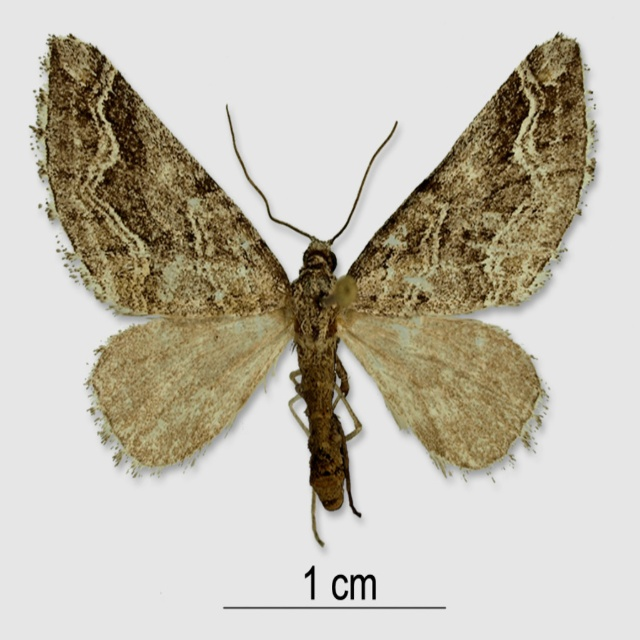Butterfly: (30, 35, 598, 549)
